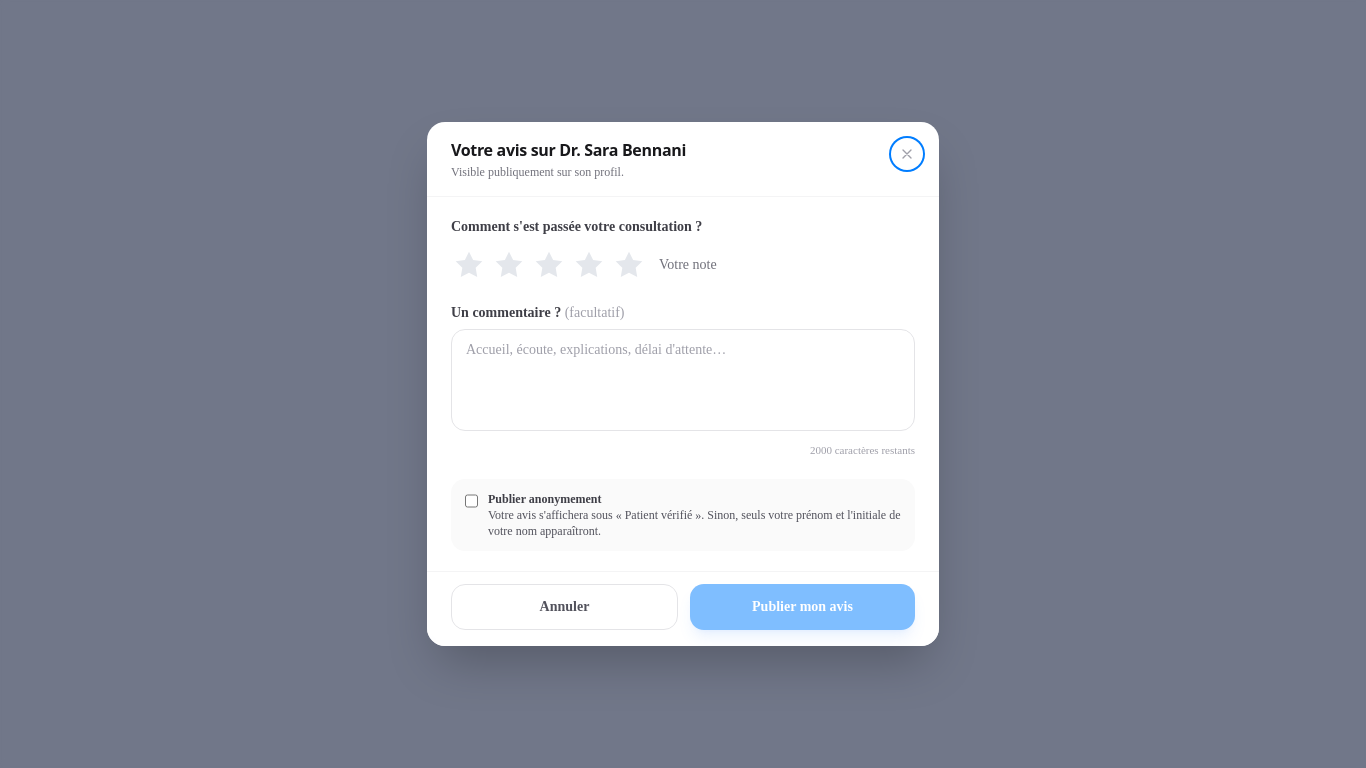
Test: AvisFormModal › un refus du serveur reste affiché et la modale ne se ferme pas
Click the radio button named "5 sur 5" at (629, 265), box 611,247 -> 647,283
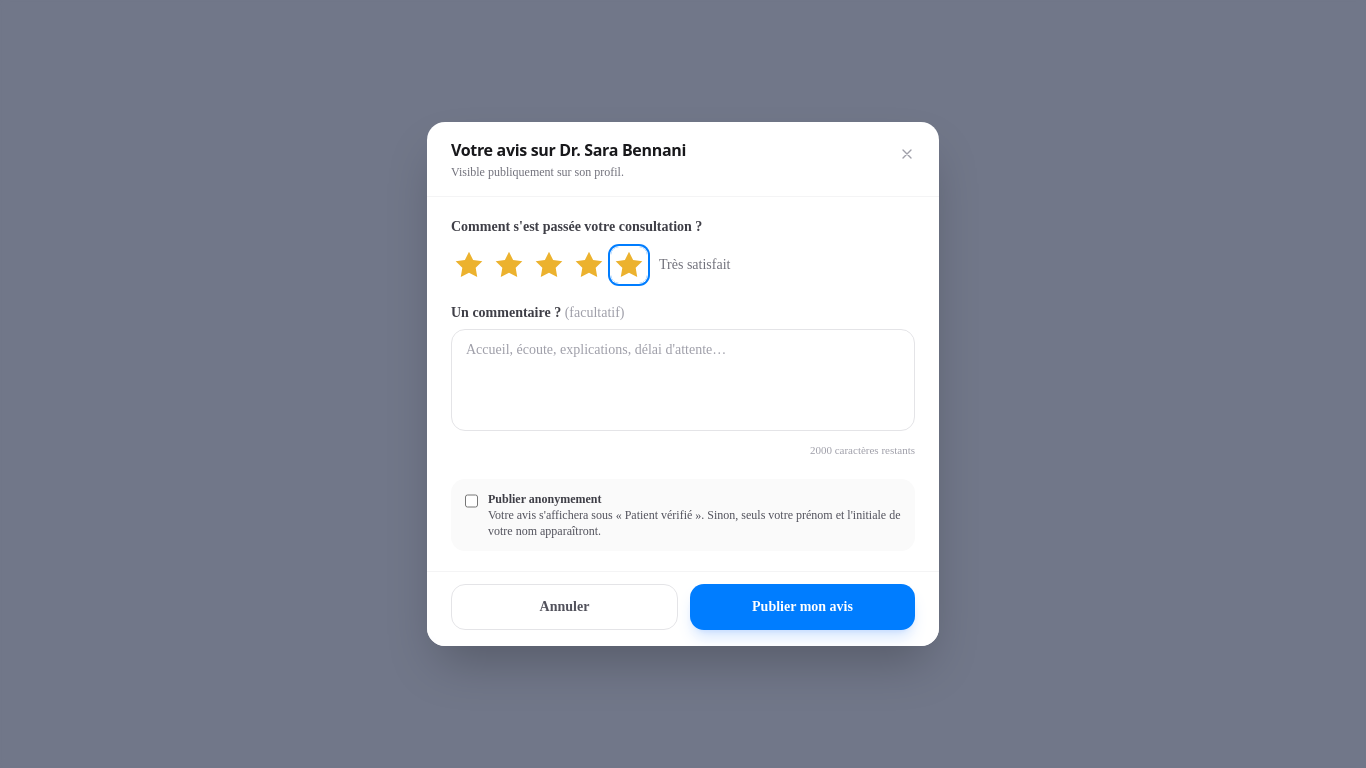
Click the button "Publier mon avis" at (802, 607), box 690,584 -> 915,630
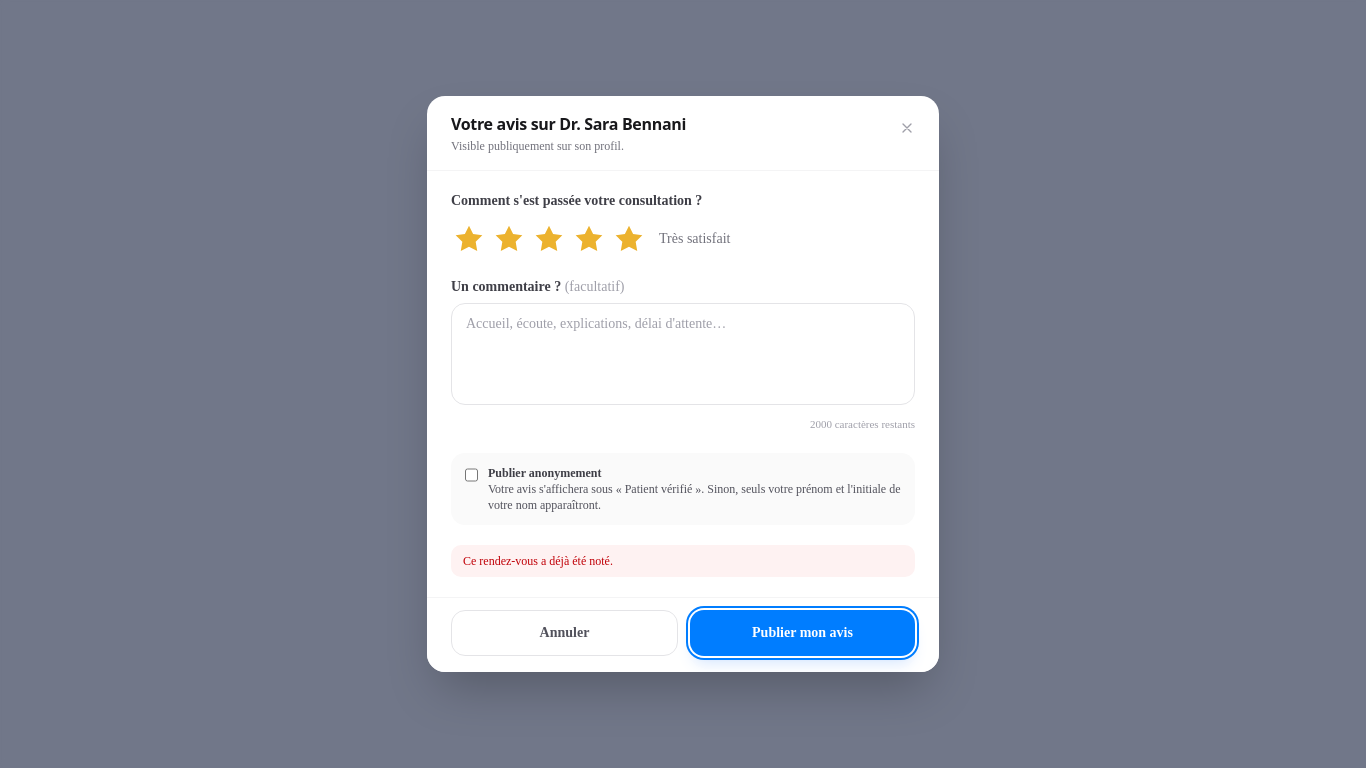
Result: the message reads "Ce rendez-vous a déjà été noté." at 463,554 -> 613,568
